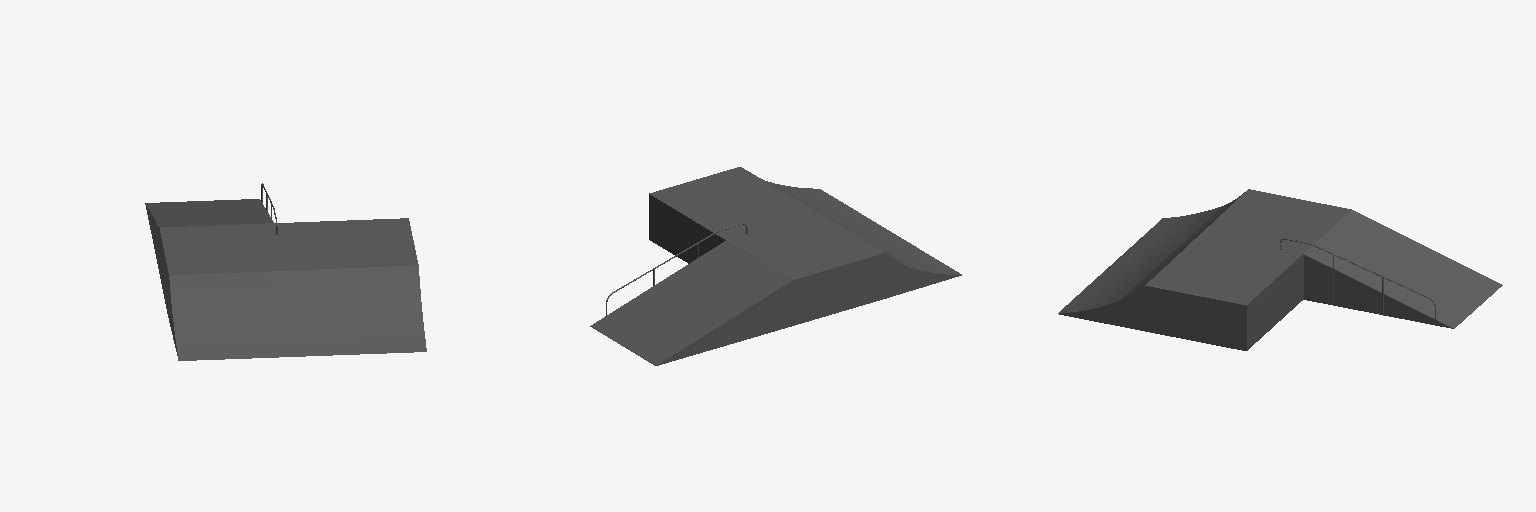
The model's file is Skate_Ramp_Fun_Box_06_.obj.
3 views of the same model, side by side, from view 1: azimuth 30°, elevation 25°; view 2: azimuth 150°, elevation 25°; view 3: azimuth 270°, elevation 25° (orthographic).
Visible parts, largest first — view 1: Skate_Ramp_Fun_Box_06_Skate_Ramp; view 2: Skate_Ramp_Fun_Box_06_Skate_Ramp; view 3: Skate_Ramp_Fun_Box_06_Skate_Ramp.
Boxes of the visible parts, x1,y1,x2,y2 form: Skate_Ramp_Fun_Box_06_Skate_Ramp: [145, 199, 426, 360]; Skate_Ramp_Fun_Box_06_Skate_Ramp: [590, 167, 961, 365]; Skate_Ramp_Fun_Box_06_Skate_Ramp: [1058, 189, 1502, 350].
Bounding box in the file's own units: 577 × 118 × 819.